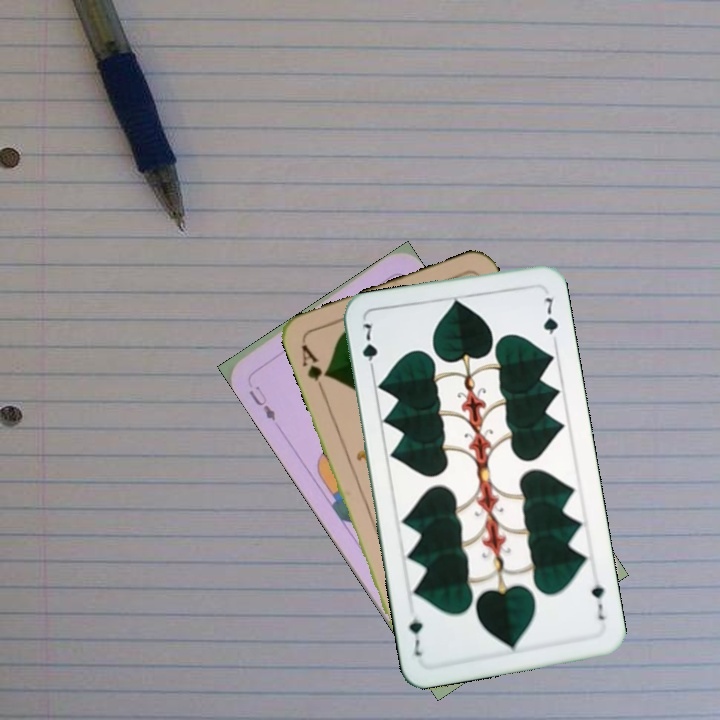EU: (244, 381, 278, 423)
G7: (358, 318, 380, 376), (587, 580, 607, 623)
GA: (297, 340, 331, 395)
